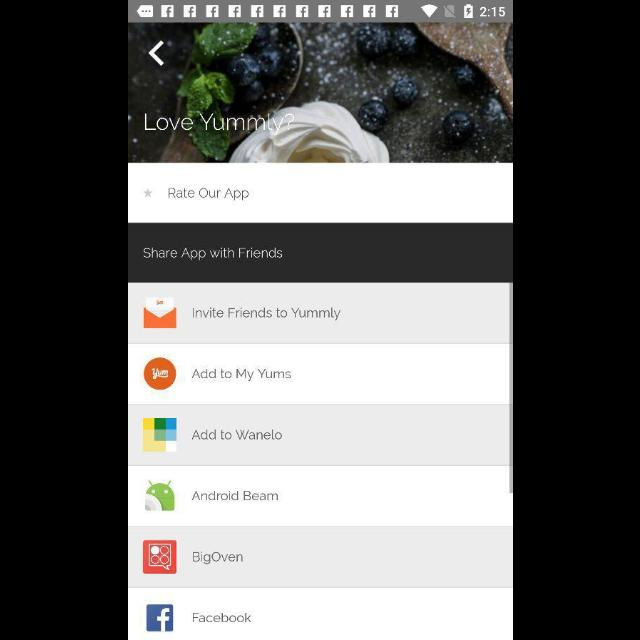icon: (146, 604, 172, 632), (148, 41, 164, 67), (144, 190, 150, 198)
image: (128, 24, 512, 162), (142, 540, 176, 574), (142, 418, 176, 452), (142, 297, 176, 329), (144, 358, 176, 390), (144, 480, 174, 512)
panel: (128, 224, 512, 640)
text: (144, 114, 294, 136), (192, 307, 341, 321), (144, 247, 282, 261), (191, 368, 291, 382), (192, 490, 278, 502), (168, 189, 248, 201), (191, 430, 283, 440), (192, 551, 244, 565), (192, 613, 252, 623)
uppertaskbar: (128, 1, 512, 23)
